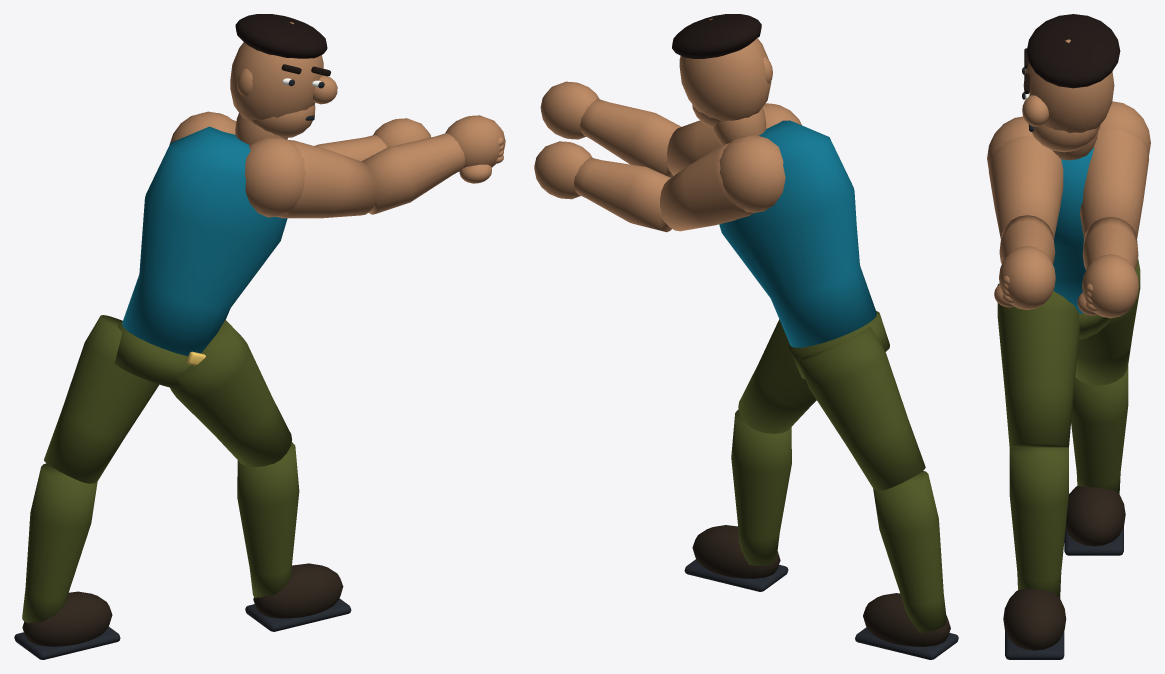
File: fatima.glb
3 views of the same model, side by side, from view 1: azimuth 30°, elevation 25°; view 2: azimuth 150°, elevation 25°; view 3: azimuth 270°, elevation 25° (orthographic). The views are drawn at different scales.
Parts seen in each view (by area): view 1: Fitted torso.013, Trouser thigh.027, Trouser thigh.026, Lower leg.027, Lower leg.026, Forearm.026, Upper arm.026, Head.013, Rounded shoulder.026, Boot.026, Boot.027, Hair crown.012 (+8 smaller); view 2: Fitted torso.013, Trouser thigh.027, Lower leg.027, Lower leg.026, Head.013, Trouser thigh.026, Forearm.026, Forearm.027, Upper arm.027, Rounded shoulder.027, Hair crown.012, Boot.026 (+8 smaller); view 3: Trouser thigh.026, Lower leg.026, Lower leg.027, Upper arm.026, Hair crown.012, Upper arm.027, Fitted torso.013, Head.013, Trouser thigh.027, Boot.026, Boot.027, Closed fist.027 (+11 smaller).
Part boxes in pixels (box(x1,y1,x2,y2)): Fitted torso.013: box(122, 126, 287, 356); Trouser thigh.027: box(44, 315, 159, 483); Trouser thigh.026: box(170, 320, 291, 467); Lower leg.027: box(22, 463, 97, 623); Lower leg.026: box(237, 442, 299, 598); Forearm.026: box(361, 133, 465, 214); Upper arm.026: box(276, 140, 376, 218); Head.013: box(230, 22, 323, 122); Rounded shoulder.026: box(245, 137, 305, 217); Boot.026: box(253, 563, 343, 618); Boot.027: box(22, 591, 112, 646); Hair crown.012: box(235, 14, 327, 58); Fitted torso.013: box(719, 120, 876, 347); Trouser thigh.027: box(798, 327, 925, 490); Lower leg.027: box(873, 470, 946, 632); Lower leg.026: box(731, 409, 791, 565); Head.013: box(679, 18, 771, 121); Trouser thigh.026: box(738, 319, 816, 433); Forearm.026: box(580, 99, 681, 177); Forearm.027: box(574, 157, 671, 232); Upper arm.027: box(660, 143, 753, 231); Rounded shoulder.027: box(719, 135, 785, 212); Hair crown.012: box(672, 14, 761, 58); Boot.026: box(692, 525, 780, 578); Trouser thigh.026: box(997, 283, 1079, 447); Lower leg.026: box(1009, 447, 1068, 598); Lower leg.027: box(1071, 365, 1128, 493); Upper arm.026: box(989, 136, 1063, 238); Hair crown.012: box(1026, 14, 1120, 88); Upper arm.027: box(1079, 128, 1148, 238); Fitted torso.013: box(1053, 147, 1094, 313); Head.013: box(1023, 39, 1114, 132); Trouser thigh.027: box(1075, 258, 1140, 385); Boot.026: box(1003, 589, 1066, 650); Boot.027: box(1065, 486, 1125, 546); Closed fist.027: box(1082, 254, 1138, 318).
Bounding box in the file's own units: 120 × 151 × 36.43.
